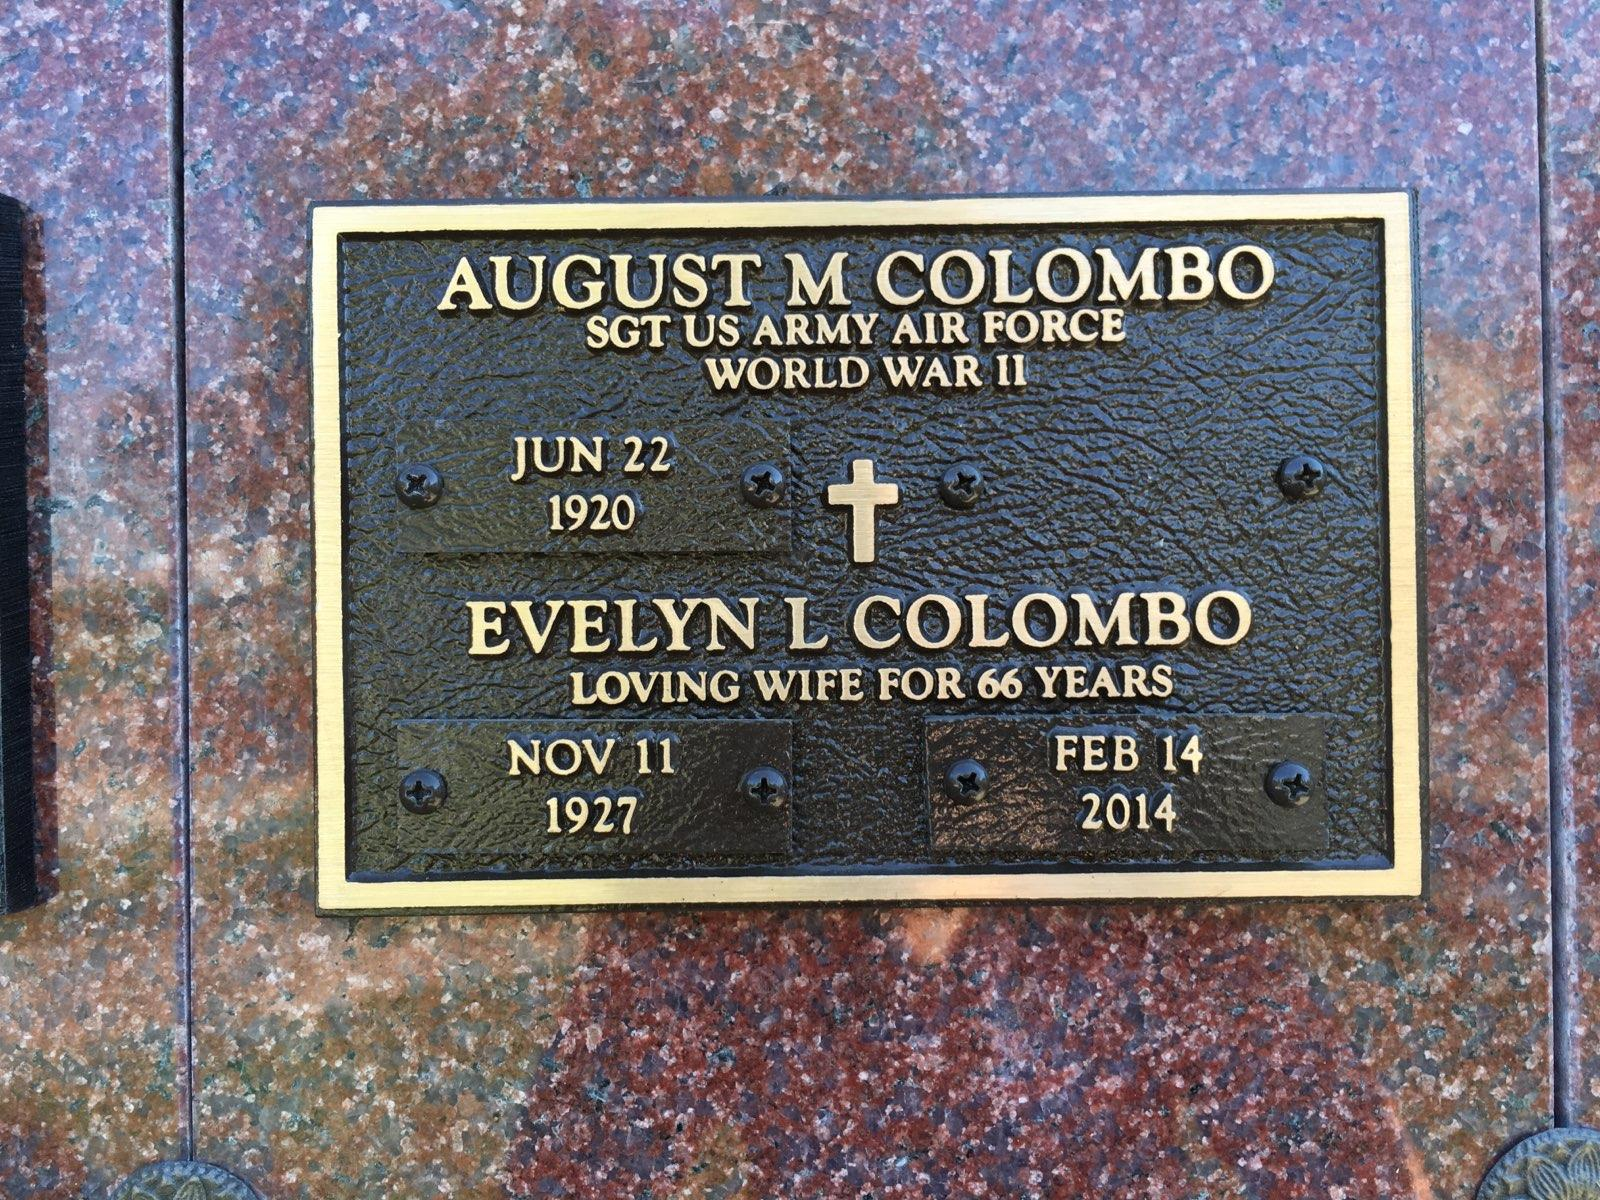plaque: (283, 179, 1451, 919)
